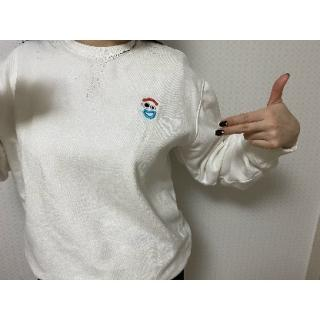GHAYN: (212, 69, 304, 156)
